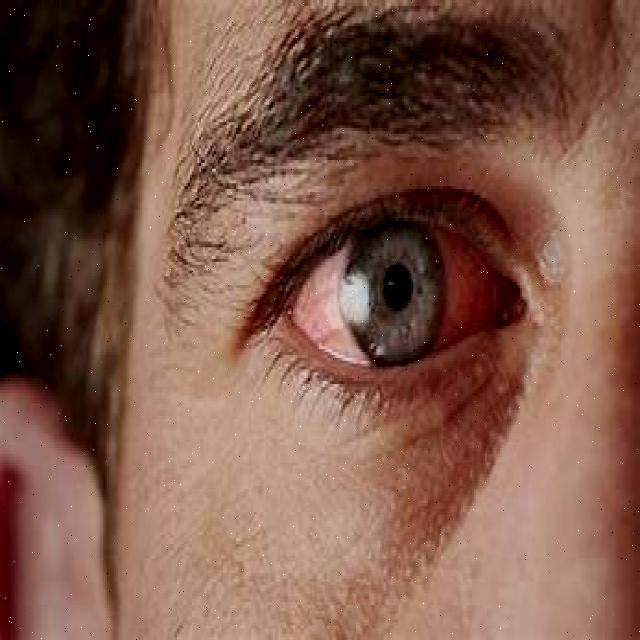Conjunctivitis: (282, 243, 532, 364)
